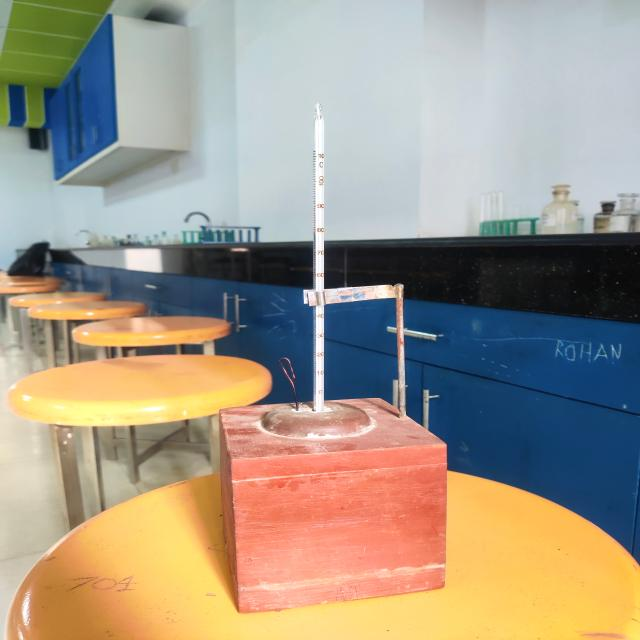Calorimeter: (196, 99, 476, 620)
